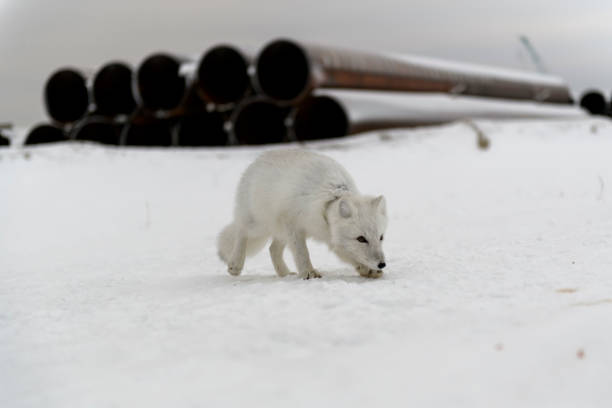arcticfox: (343, 208, 392, 274)
